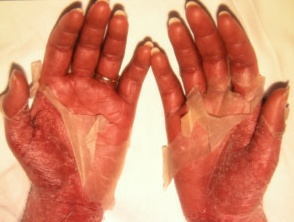SJS-TEN: (0, 0, 156, 222), (148, 0, 294, 222)
